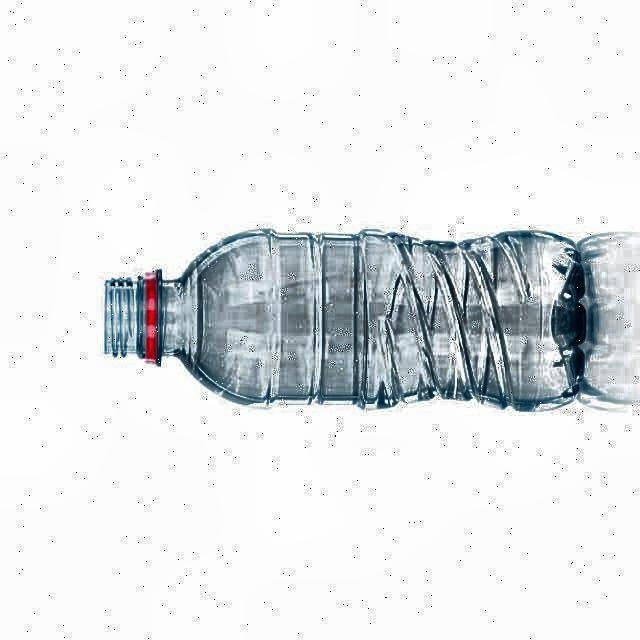plastic: (105, 230, 582, 409)
